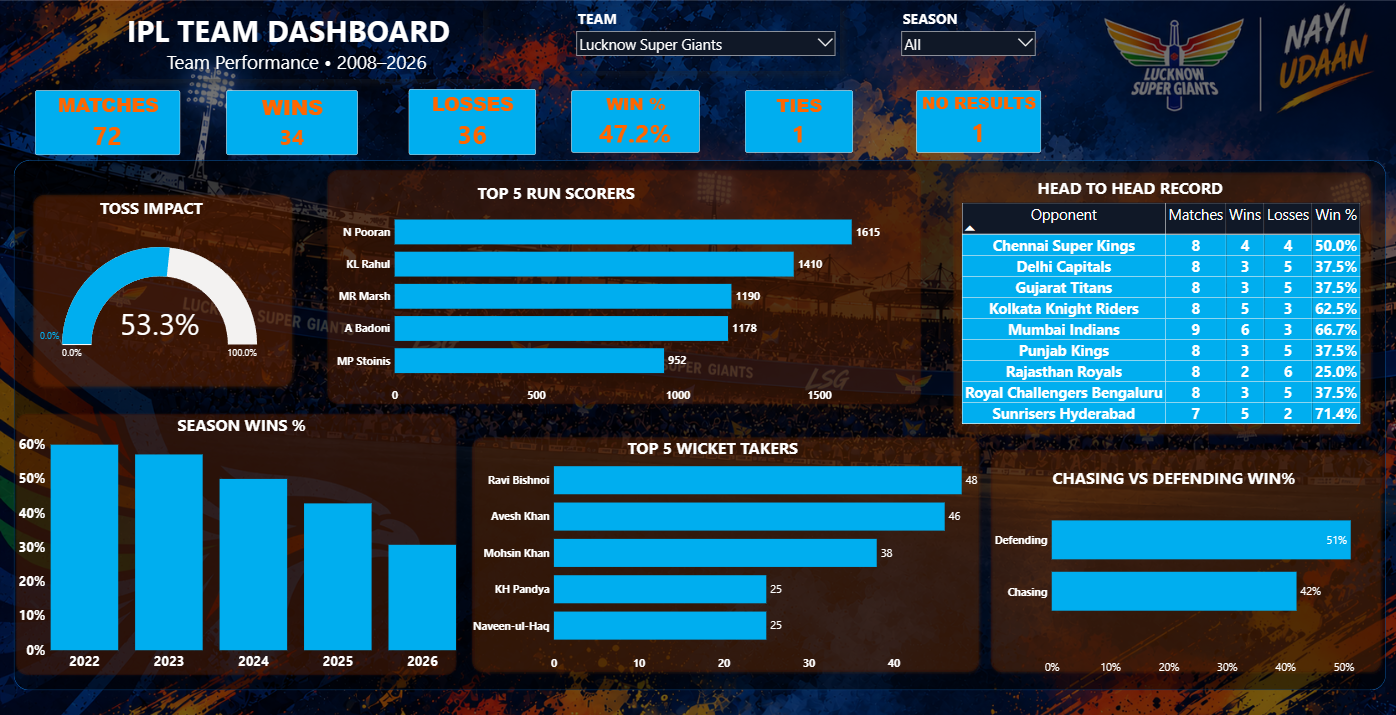

The page's visual inventory and layout, read from the dashboard file:
{"tool":"powerbi","page":{"name":"Page 1","canvas":[2800,1450],"ordinal":0},"visuals":[{"type":"image","box":[0,2.3,2800,1448.5],"z":0},{"type":"shape","box":[0,2.3,2800,1448.5],"z":1000},{"type":"shape","box":[27.2,322.3,2744.3,1060],"z":2000},{"type":"shape","box":[56.7,383.6,535.7,401.8],"z":2500},{"type":"shape","box":[649.2,338.2,1196.2,476.7],"z":2750},{"type":"shape","box":[935.6,868.6,1032.7,487.5],"z":2875},{"type":"shape","box":[27.2,824,889.8,531.2],"z":2937},{"type":"shape","box":[1897.6,338.2,853.5,542.5],"z":2968},{"type":"shape","box":[1972.5,892.1,799,463.1],"z":2984},{"type":"slicer","fields":{"Values":["Dim_Team.Team_Name"]},"box":[1143.6,13.9,538.3,129.4],"z":3000},{"type":"slicer","fields":{"Values":["Dim_Date.Year"]},"box":[1792.7,13.9,288.8,129.4],"z":4000},{"type":"textbox","box":[219.5,18.5,746.2,143.2],"z":5000},{"type":"cardVisual","title":"MATCHES","fields":{"Data":["Dim_Date.Matches Played"]},"box":[70.4,181.6,290.5,129.4],"z":6000},{"type":"cardVisual","title":"WINS","fields":{"Data":["Fact_Match.Wins"]},"box":[452.8,182.5,263.4,129.4],"z":8000},{"type":"cardVisual","title":"LOSSES","fields":{"Data":["Fact_Match.Losses"]},"box":[817.2,179.3,254.2,131.7],"z":9000},{"type":"cardVisual","title":"WIN %","fields":{"Data":["Fact_Match.Win %"]},"box":[1143.6,182.5,256.4,124.8],"z":10000},{"type":"cardVisual","title":"TIES","fields":{"Data":["Fact_Match.Ties"]},"box":[1489,181.6,215.6,124.8],"z":11000},{"type":"cardVisual","title":"NO RESULTS","fields":{"Data":["Fact_Match.No Results"]},"box":[1832,182.5,249.5,124.8],"z":12000},{"type":"clusteredBarChart","title":"Top 5 Run Scorers","fields":{"Y":["Dim_Date.Total Runs"],"Category":["Fact_Ball.batter"]},"box":[667.3,401.8,1125.9,415.4],"z":13000},{"type":"clusteredBarChart","title":"Top 5 Wicket Takers","fields":{"Category":["Fact_Ball.bowler"],"Y":["Fact_Ball.Total Wickets"]},"box":[940.3,891.7,1032.7,462],"z":14000},{"type":"tableEx","title":"HEAD-TO-HEAD RECORD","fields":{"Values":["H2H Opponents.Opponent","Dim_Date.H2H Matches","Dim_Date.H2H Wins","Dim_Date.H2H Losses","Dim_Date.H2H Win %"]},"box":[1918.1,401.8,810.4,469.9],"z":15000},{"type":"clusteredBarChart","title":"Chasing vs Defending","fields":{"Category":["Match Situation.Situation"],"Y":["Match Situation.Situation Win %"]},"box":[1988.4,937.5,783.1,419.9],"z":16000},{"type":"clusteredColumnChart","title":"Season Wins","fields":{"Y":["Dim_Date.Season Win %"],"Category":["Dim_Date.Year"]},"box":[32.3,868.6,884.8,485.1],"z":17000},{"type":"gauge","title":"Toss Impact","fields":{"Y":["Dim_Date.Toss Win Match %"]},"box":[70.4,474.4,449.4,272.4],"z":18000},{"type":"textbox","box":[196,390,301.9,72.6],"z":19000},{"type":"textbox","box":[950,360,397.2,81.7],"z":20000},{"type":"textbox","box":[2070,350,492.6,145.3],"z":21000},{"type":"textbox","box":[350,825,300,300],"z":22000},{"type":"textbox","box":[1250,870,399.7,83.2],"z":23000},{"type":"textbox","box":[2100,930,559.1,122.4],"z":24000}]}

Visuals, with their boxes in screenshot pixels (x1, y1, x2, y2), scaled from the page's 2800x1450 canvas onto the 1396x715 screenshot:
image: (0,1,1395,714)
shape: (0,1,1395,714)
shape: (14,159,1382,682)
shape: (28,189,295,387)
shape: (324,167,920,402)
shape: (466,428,981,669)
shape: (14,406,457,668)
shape: (946,167,1372,434)
shape: (983,440,1382,668)
slicer - Dim_Team.Team_Name: (570,7,839,71)
slicer - Dim_Date.Year: (894,7,1038,71)
textbox: (109,9,481,80)
"MATCHES" cardVisual: (35,90,180,153)
"WINS" cardVisual: (226,90,357,154)
"LOSSES" cardVisual: (407,88,534,153)
"WIN %" cardVisual: (570,90,698,152)
"TIES" cardVisual: (742,90,850,151)
"NO RESULTS" cardVisual: (913,90,1038,152)
"Top 5 Run Scorers" clusteredBarChart: (333,198,894,403)
"Top 5 Wicket Takers" clusteredBarChart: (469,440,984,668)
"HEAD-TO-HEAD RECORD" tableEx: (956,198,1360,430)
"Chasing vs Defending" clusteredBarChart: (991,462,1382,669)
"Season Wins" clusteredColumnChart: (16,428,457,668)
"Toss Impact" gauge: (35,234,259,368)
textbox: (98,192,248,228)
textbox: (474,178,672,218)
textbox: (1032,173,1278,244)
textbox: (174,407,324,555)
textbox: (623,429,822,470)
textbox: (1047,459,1326,519)
